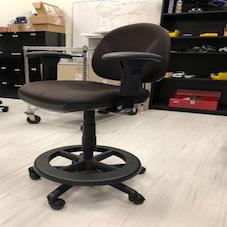chair: (15, 23, 176, 209)
